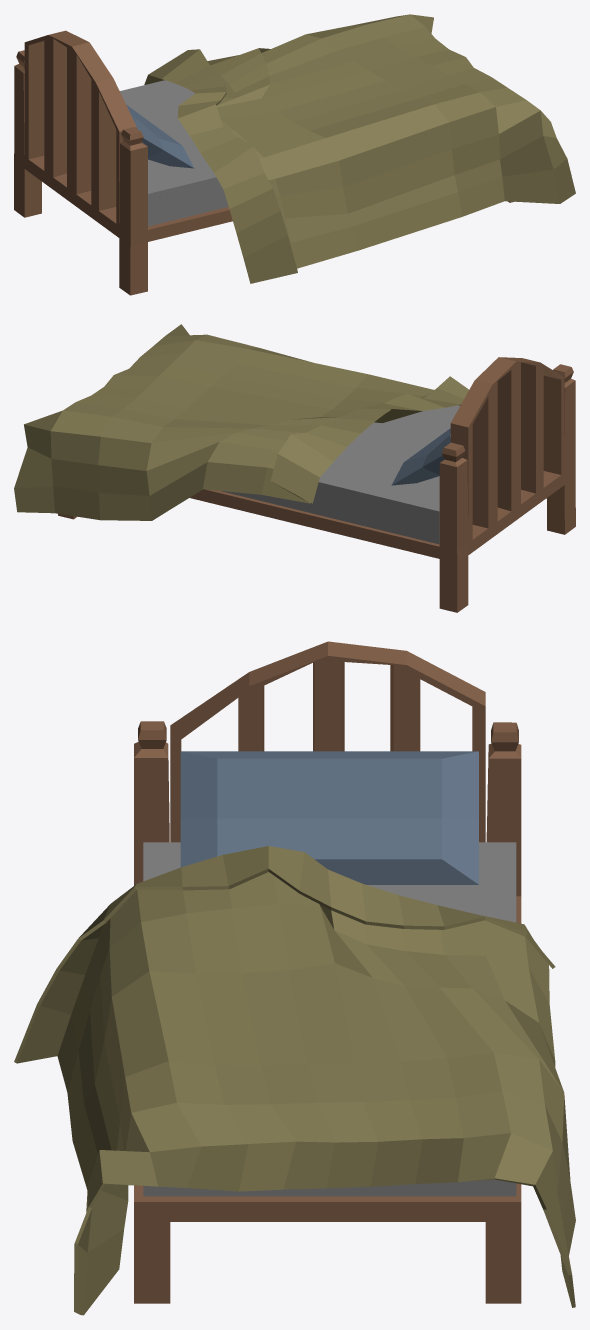
Rendered from Cama.fbx.
3 renders of one model, top to bottom at view 1: azimuth 30°, elevation 25°; view 2: azimuth 150°, elevation 25°; view 3: azimuth 270°, elevation 25°, orthographic. The views are drawn at different scales.
Parts seen in each view (by area): view 1: Sabana, Somier, Colchon, Almohada; view 2: Sabana, Somier, Colchon, Almohada; view 3: Sabana, Somier, Almohada, Colchon.
Part boxes in pixels (box(x1,y1,x2,y2)): Sabana: box(144, 14, 575, 283); Somier: box(14, 30, 514, 295); Colchon: box(119, 80, 516, 226); Almohada: box(126, 104, 194, 168); Sabana: box(14, 324, 468, 520); Somier: box(58, 357, 575, 612); Colchon: box(221, 405, 459, 544); Almohada: box(391, 428, 450, 485); Sabana: box(14, 846, 575, 1315); Somier: box(134, 641, 521, 1303); Almohada: box(180, 751, 478, 884); Colchon: box(143, 842, 516, 1196).
Bounding box in the file's own units: 220 × 101 × 151.
1 material, 1 textured.
